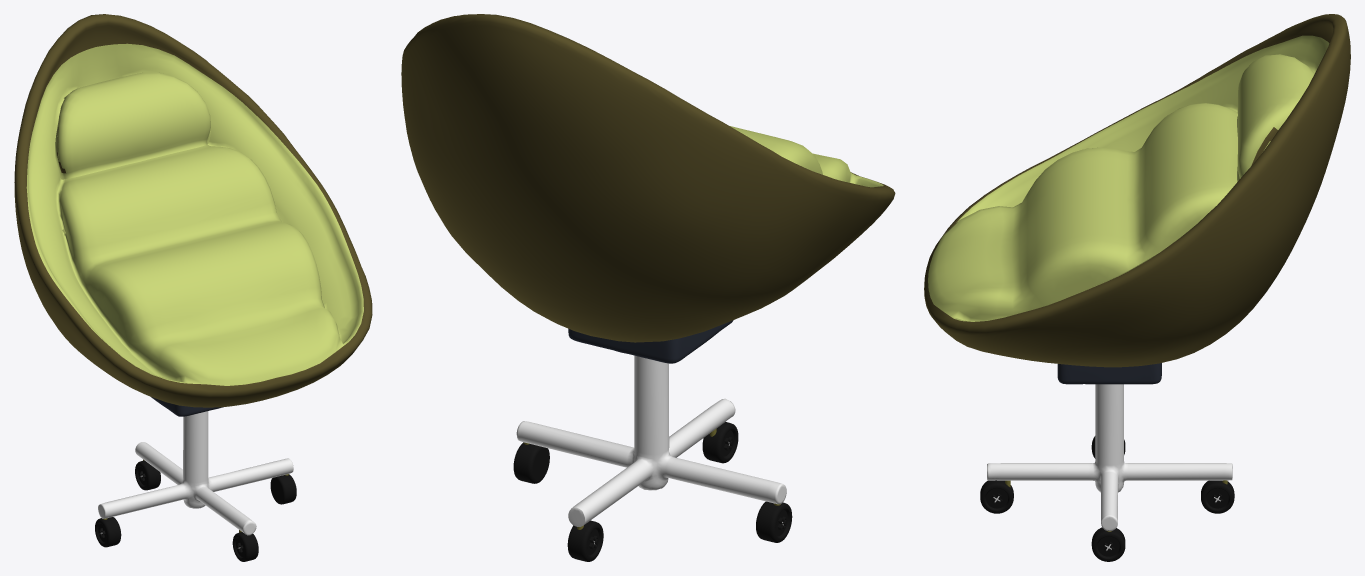
The model's file is Chair_S.fbx.
3 renders of one model, left to right at view 1: azimuth 30°, elevation 25°; view 2: azimuth 150°, elevation 25°; view 3: azimuth 270°, elevation 25°, orthographic. The views are drawn at different scales.
Parts seen in each view (by area): view 1: Chair_S; view 2: Chair_S; view 3: Chair_S.
Boxes of the visible parts, x1=… form: Chair_S: x1=14, y1=14, x2=372, y2=561; Chair_S: x1=401, y1=14, x2=895, y2=561; Chair_S: x1=924, y1=14, x2=1350, y2=561.
Bounding box in the file's own units: 2.23 × 3.15 × 2.5.
